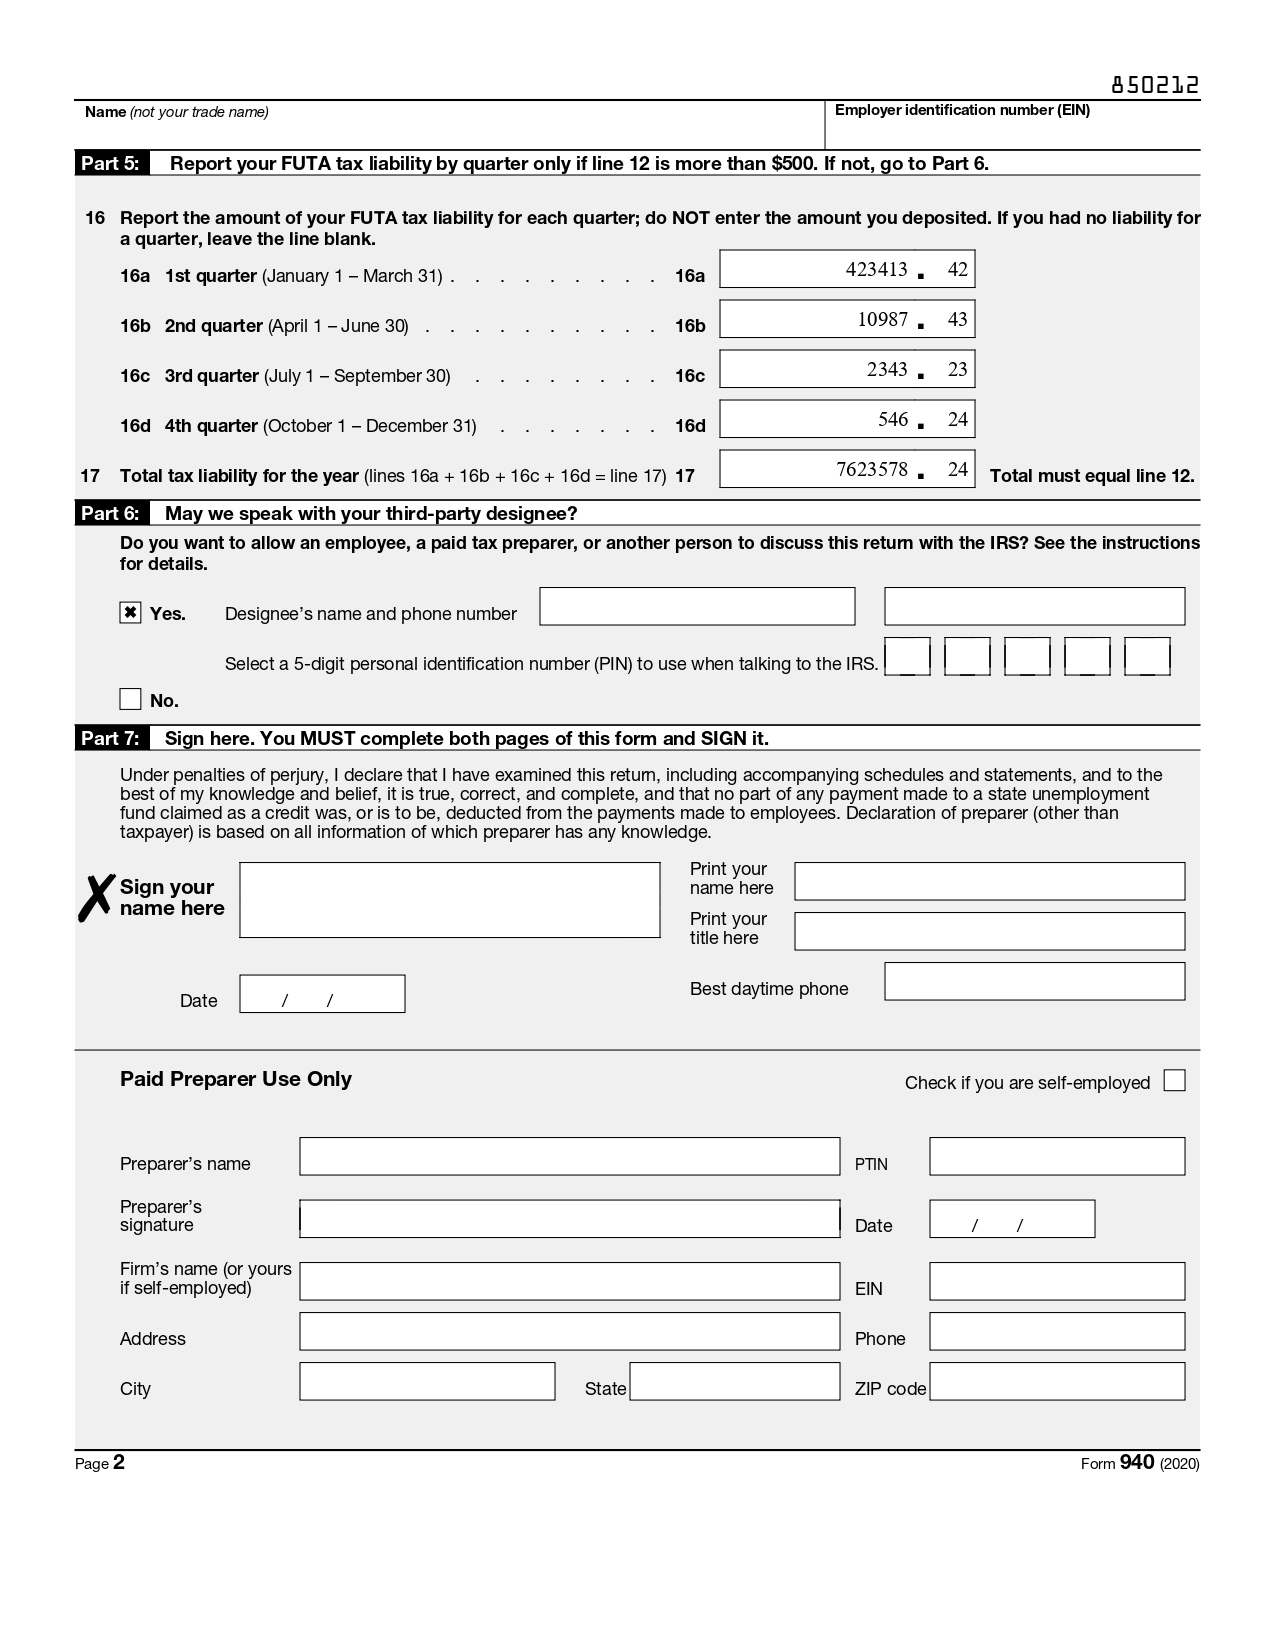form: (86, 1125, 1206, 1432), (55, 850, 1204, 1040), (80, 532, 1209, 718)
table: (78, 249, 1204, 492)
